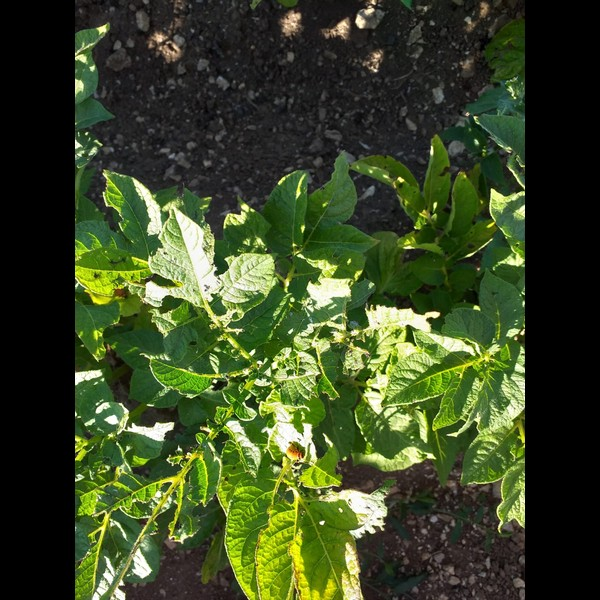hrosc: (285, 442, 307, 463)
